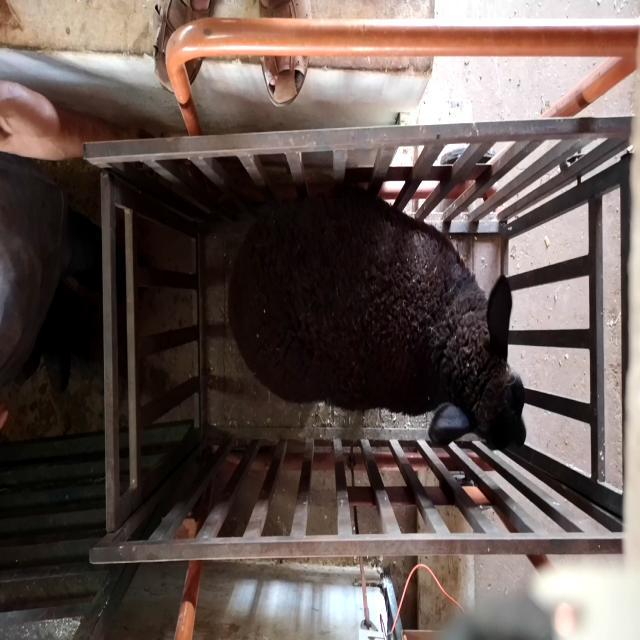sheep: (227, 184, 526, 451)
